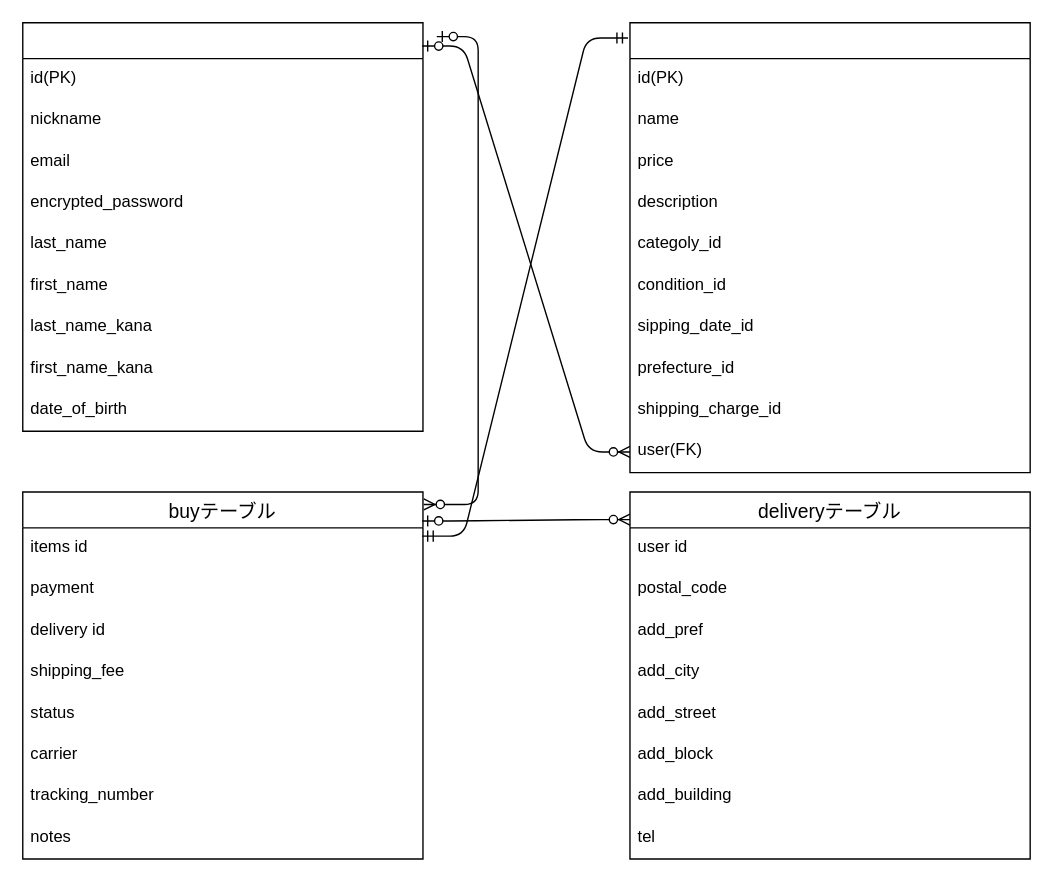
This 1053x882 diagram has some shape labels left out. The box of each missing label's shape, as (x1, y1, x2, y2) in pixels:
itemsテーブル: (629, 21, 1030, 473)
usersテーブル: (21, 21, 423, 431)
